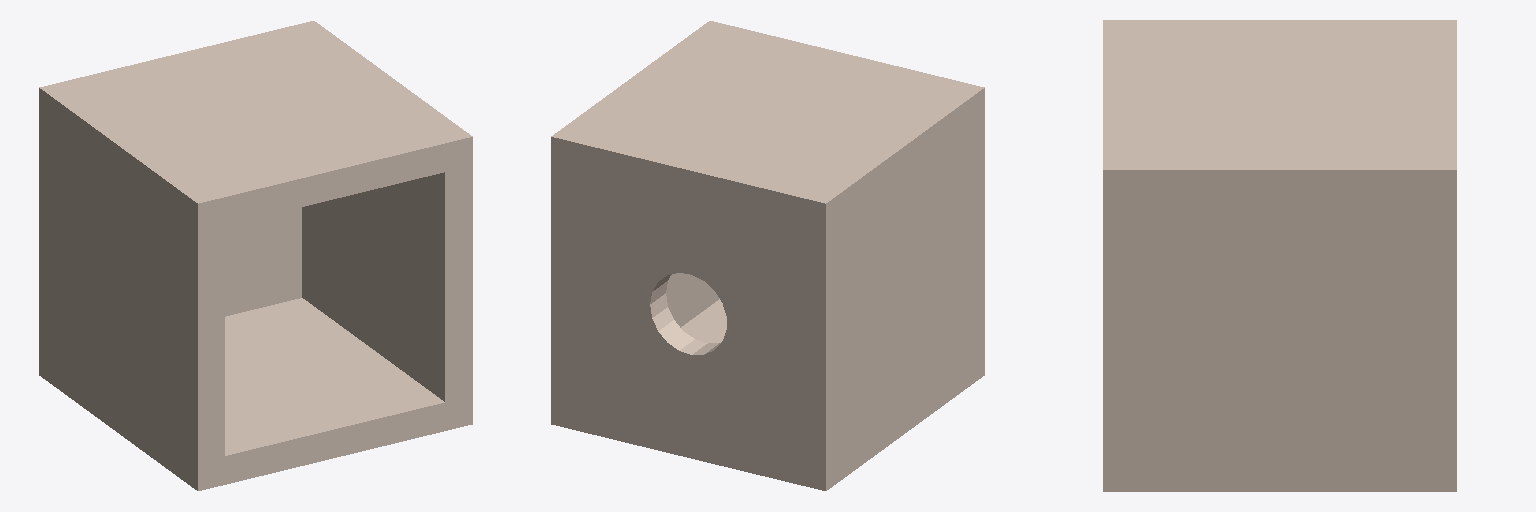
URDF robot description (board):
<?xml version="1.0"?>
<robot name="board">
    <material name="brown">
        <color rgba="0.87 0.81 0.76 1.0" />
    </material>

    <link concave="yes" name="board">
        <inertial>
            <origin xyz="0 0 0" rpy="0 0 0" />
            <mass value="1.86" />
            <inertia ixx="1" ixy="0" ixz="0" iyy="1" iyz="0" izz="1" />
        </inertial>

        <visual>
            <origin xyz="0 0 0" rpy="0 0 0" />
            <geometry>
                <mesh filename="package://bopt_gmm/objects/peg_in_hole_board/board_medium.obj" scale="1 1 1" />
            </geometry>
            <material name="brown" />
        </visual>

        <collision concave="yes">
            <origin xyz="0 0 0" rpy="0 0 0" />
            <geometry>
                <mesh filename="package://bopt_gmm/objects/peg_in_hole_board/board_medium.obj" scale="1 1 1" />
            </geometry>
        </collision>
    </link>

    <joint name="board__circle" type="fixed">
        <parent link="board" />
        <child link="target" />
        <origin xyz="0.0 0.20 0.0" rpy="0 0 0" />
    </joint>

    <link name="target">
        <inertial>
            <origin xyz="0 0 0" rpy="0 0 0" />
            <mass value="0" />
            <inertia ixx="1" ixy="0" ixz="0" iyy="1" iyz="0" izz="1" />
        </inertial>
    </link>

</robot>

--- Facts derived from the render (not from the file) ---
The picture shows the robot from 3 angles, left to right: view 1: azimuth 30°, elevation 25°; view 2: azimuth 150°, elevation 25°; view 3: azimuth 270°, elevation 25°; orthographic projection.
Model board with 2 links and 1 joints (1 fixed), rooted at board, posed all joints at 0.
Links seen in each view (by area): view 1: board; view 2: board; view 3: board.
Link boxes in pixels (x1,y1,x2,y2): board: (39,21,472,490); board: (551,21,984,490); board: (1103,20,1456,491).
Size in the robot's own frame: 0.2 by 0.2 by 0.2 metres.
1 mesh visuals loaded from 1 distinct referenced files (1 OBJ).